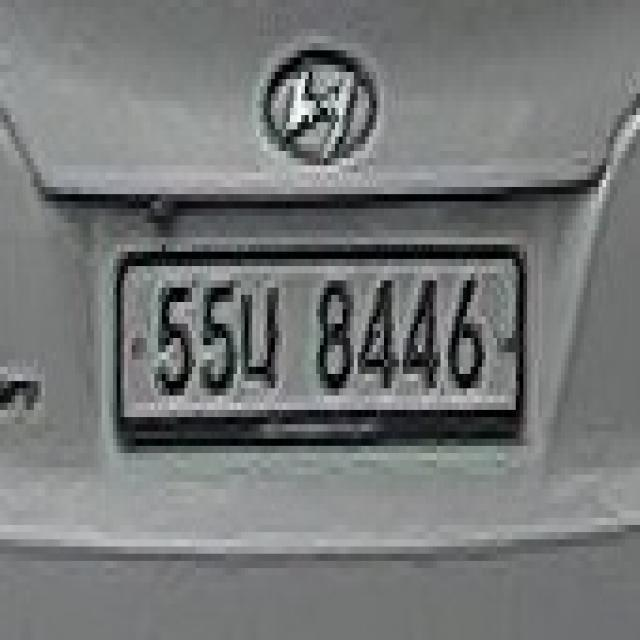4: (402, 272, 444, 394), (357, 274, 399, 392)
5: (154, 276, 195, 396), (200, 276, 240, 396)
6: (448, 266, 487, 395)
8: (314, 273, 355, 390)
license_plate: (111, 242, 530, 448)
na: (243, 276, 286, 396)
